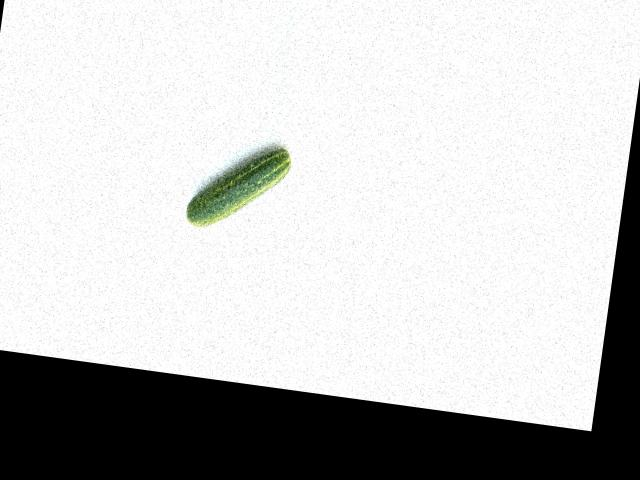cucumber: (185, 136, 294, 238)
